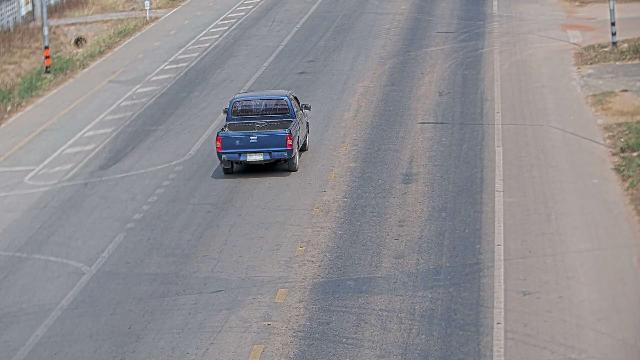pickup-truck: (214, 89, 312, 174)
